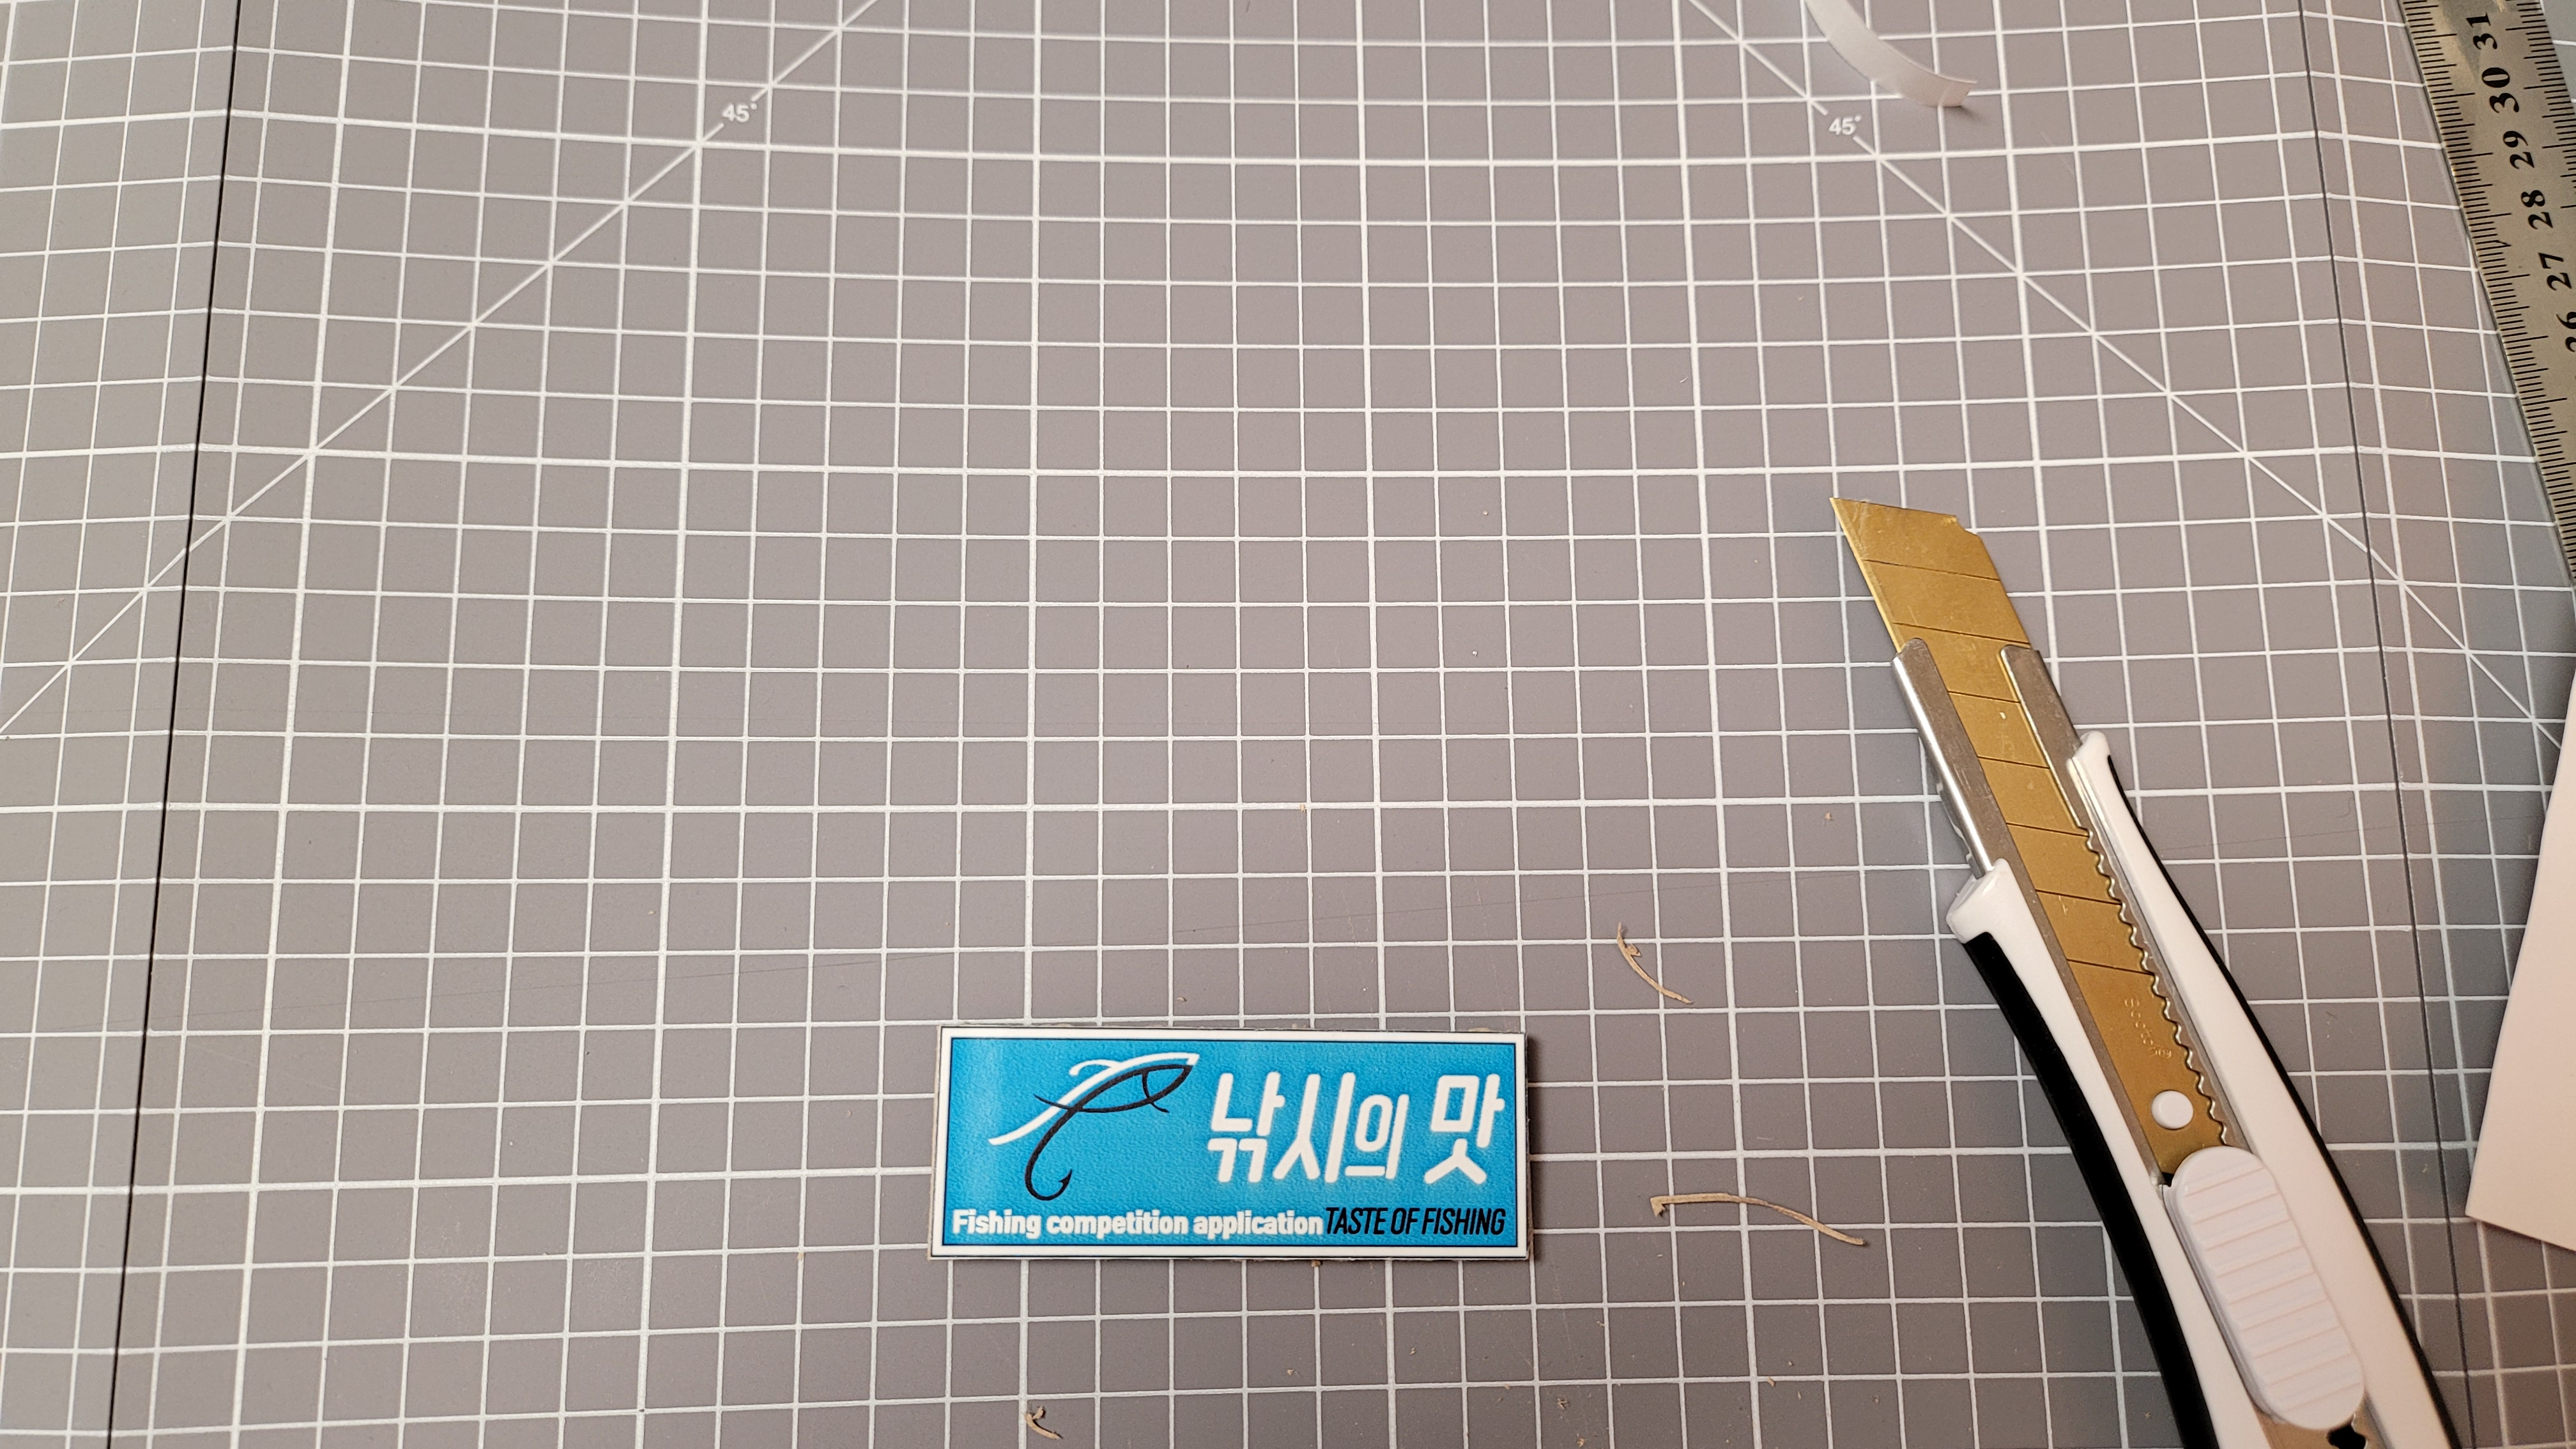tag: (941, 1026, 1529, 1256)
